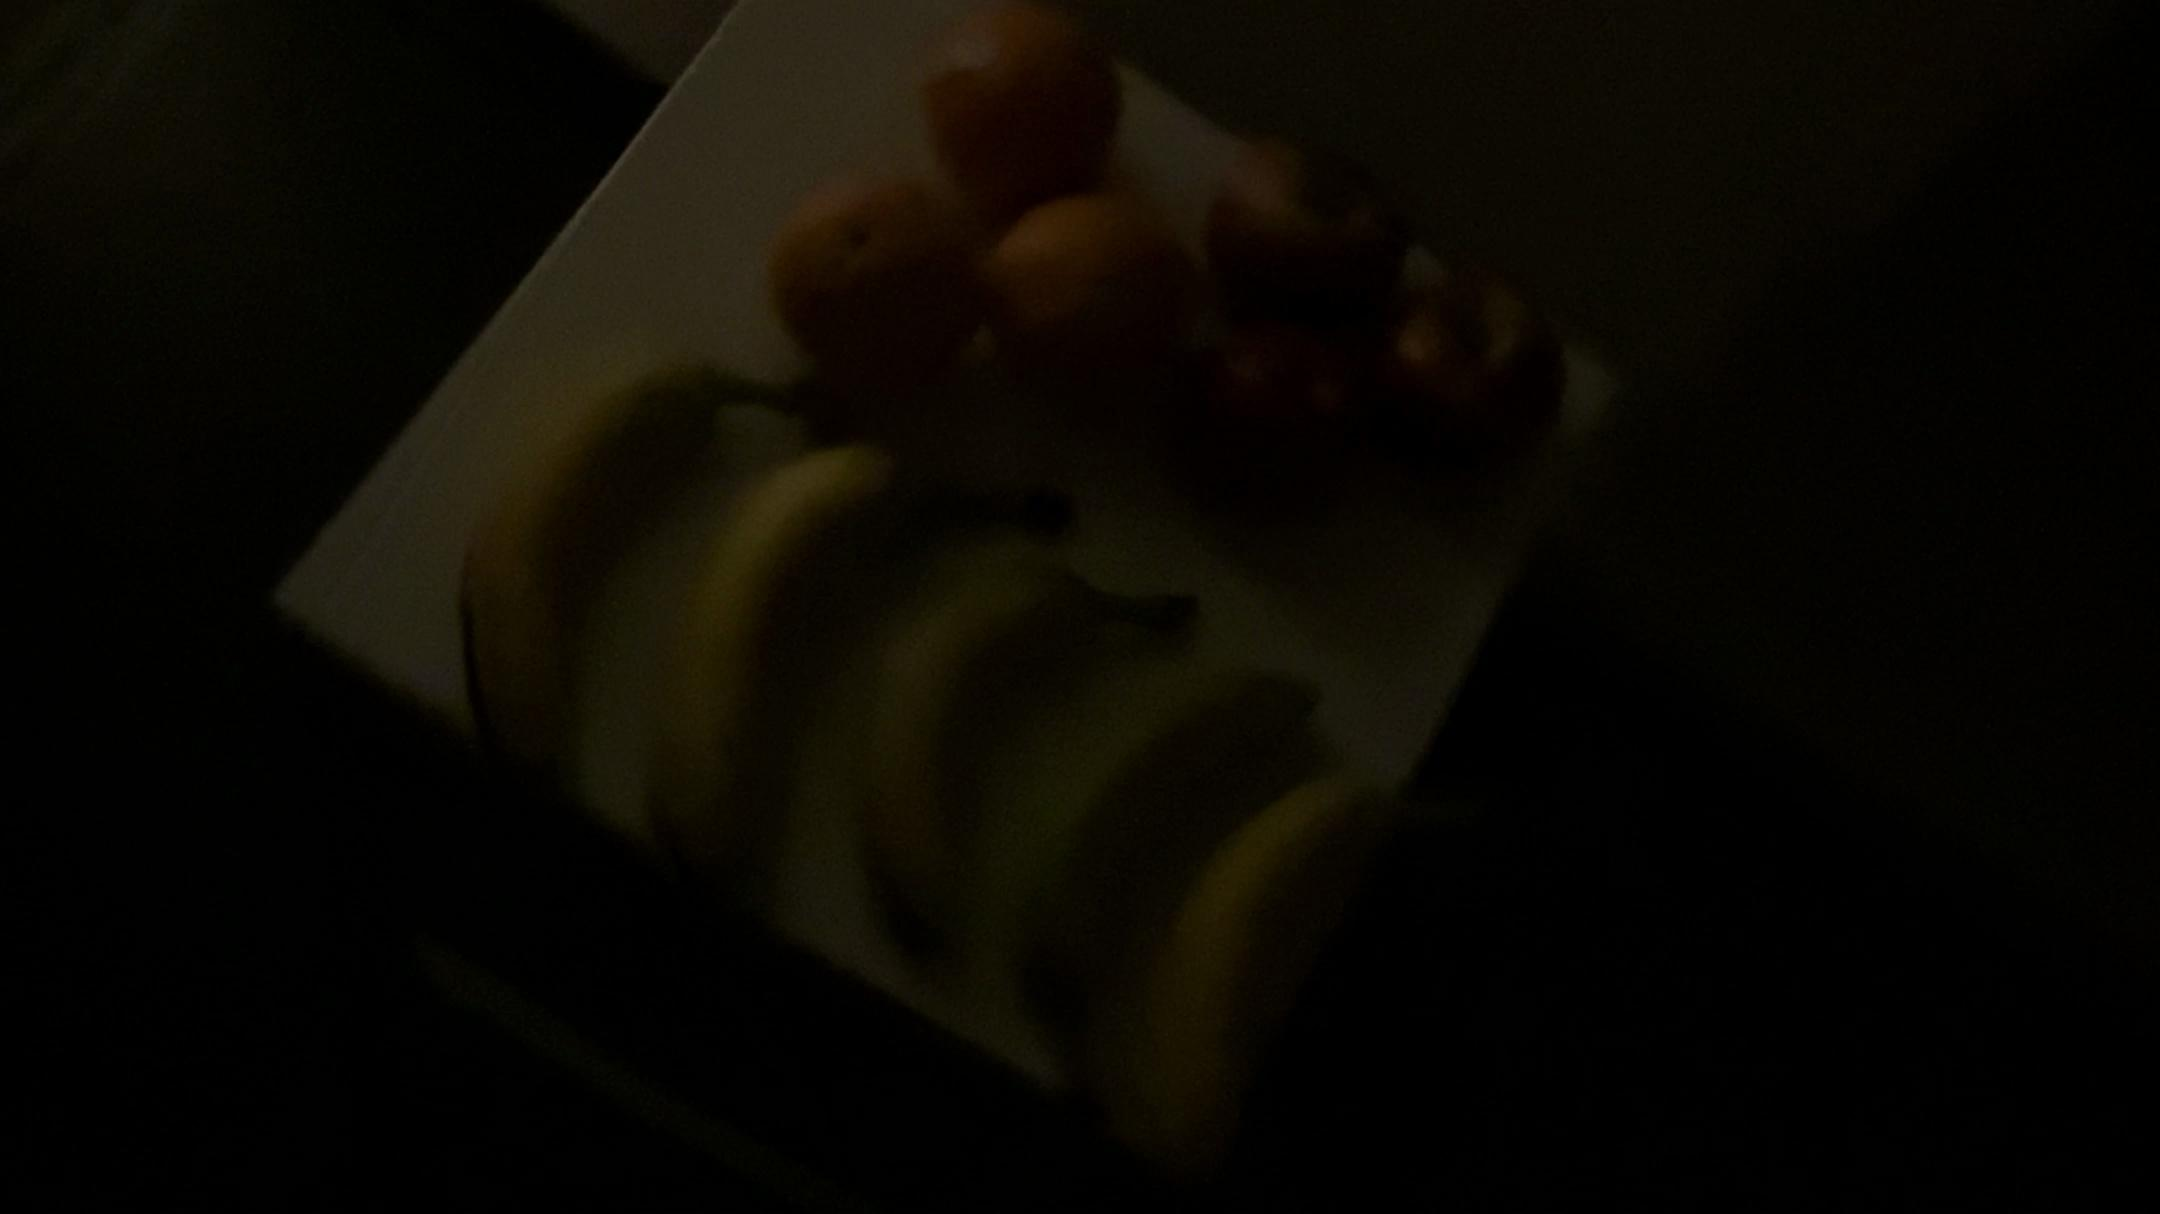apple: (1199, 119, 1409, 338), (1225, 327, 1426, 539), (1363, 249, 1567, 441)
banana: (423, 321, 829, 788), (857, 497, 1216, 919), (629, 387, 939, 864), (992, 626, 1319, 1020), (1179, 751, 1426, 1080)
orange: (767, 154, 991, 390), (972, 183, 1176, 413), (906, 15, 1144, 202)
